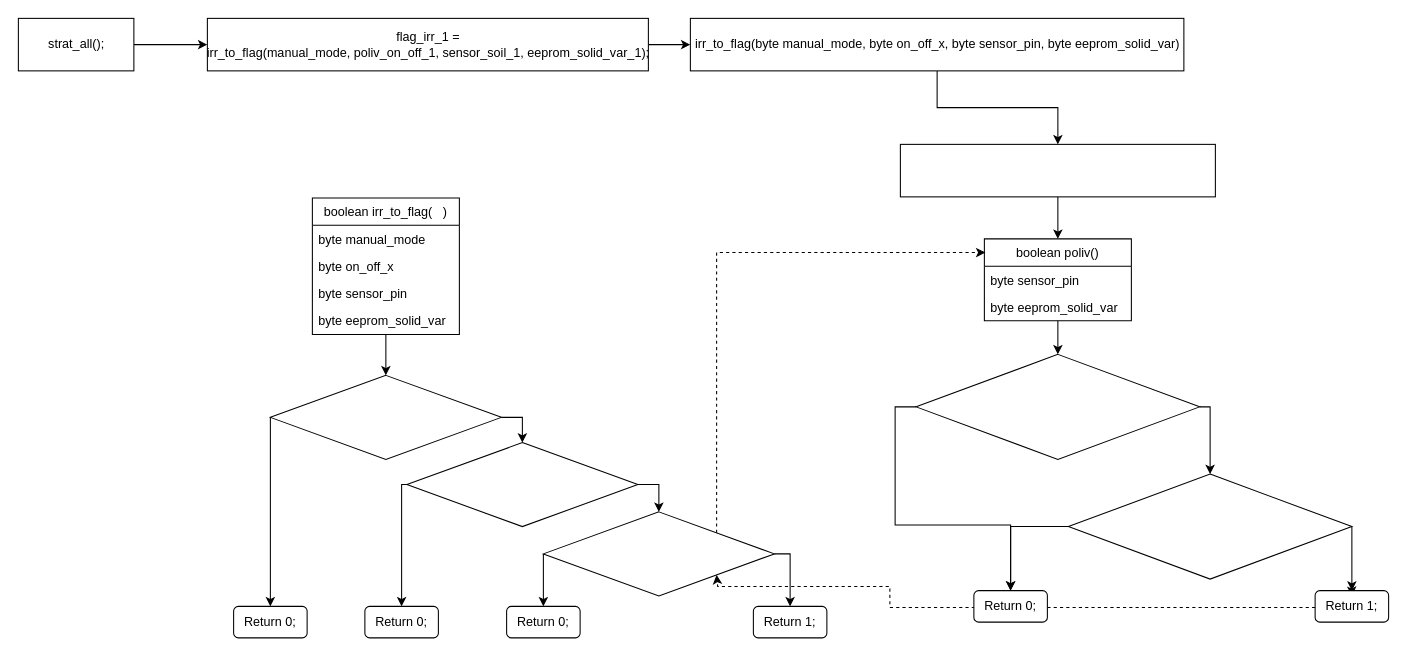
Image size: 1407x656. Some labels were removed from this diagram. Here are the shapes that lost their labels. From the top down, the centre of each, then its label:
At [1057,170]: "boolean poliv(byte sensor_pin, byte eeprom_solid_var)".
At [385,416]: "EEPROM.read(manual_mode) == 0".
At [1057,406]: "temp_ds(ds1) > EEPROM.read(eeprom_temp_water_var )".
At [522,484]: "EEPROM.read(on_off_x) == 1".
At [1209,526]: "solid_read(sensor_pin) < EEPROM.read(eeprom_solid_var)".
At [658,553]: "poliv(sensor_pin, eeprom_solid_var)".
